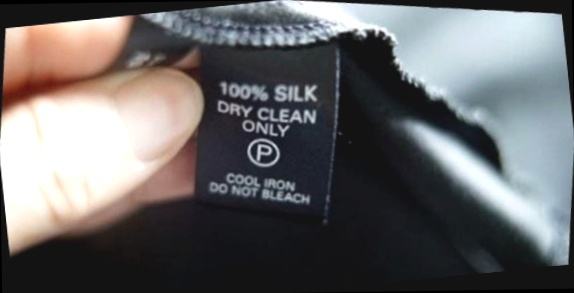dry_clean_any_solvent_except_trichloroethylene: (244, 133, 286, 171)
